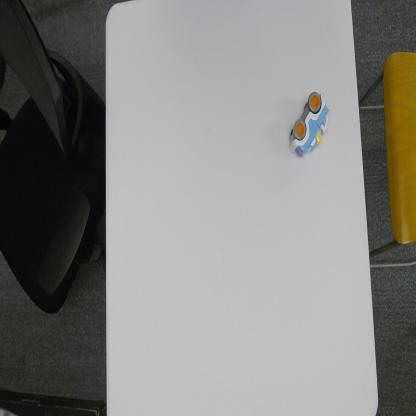Car: (288, 88, 331, 158)
